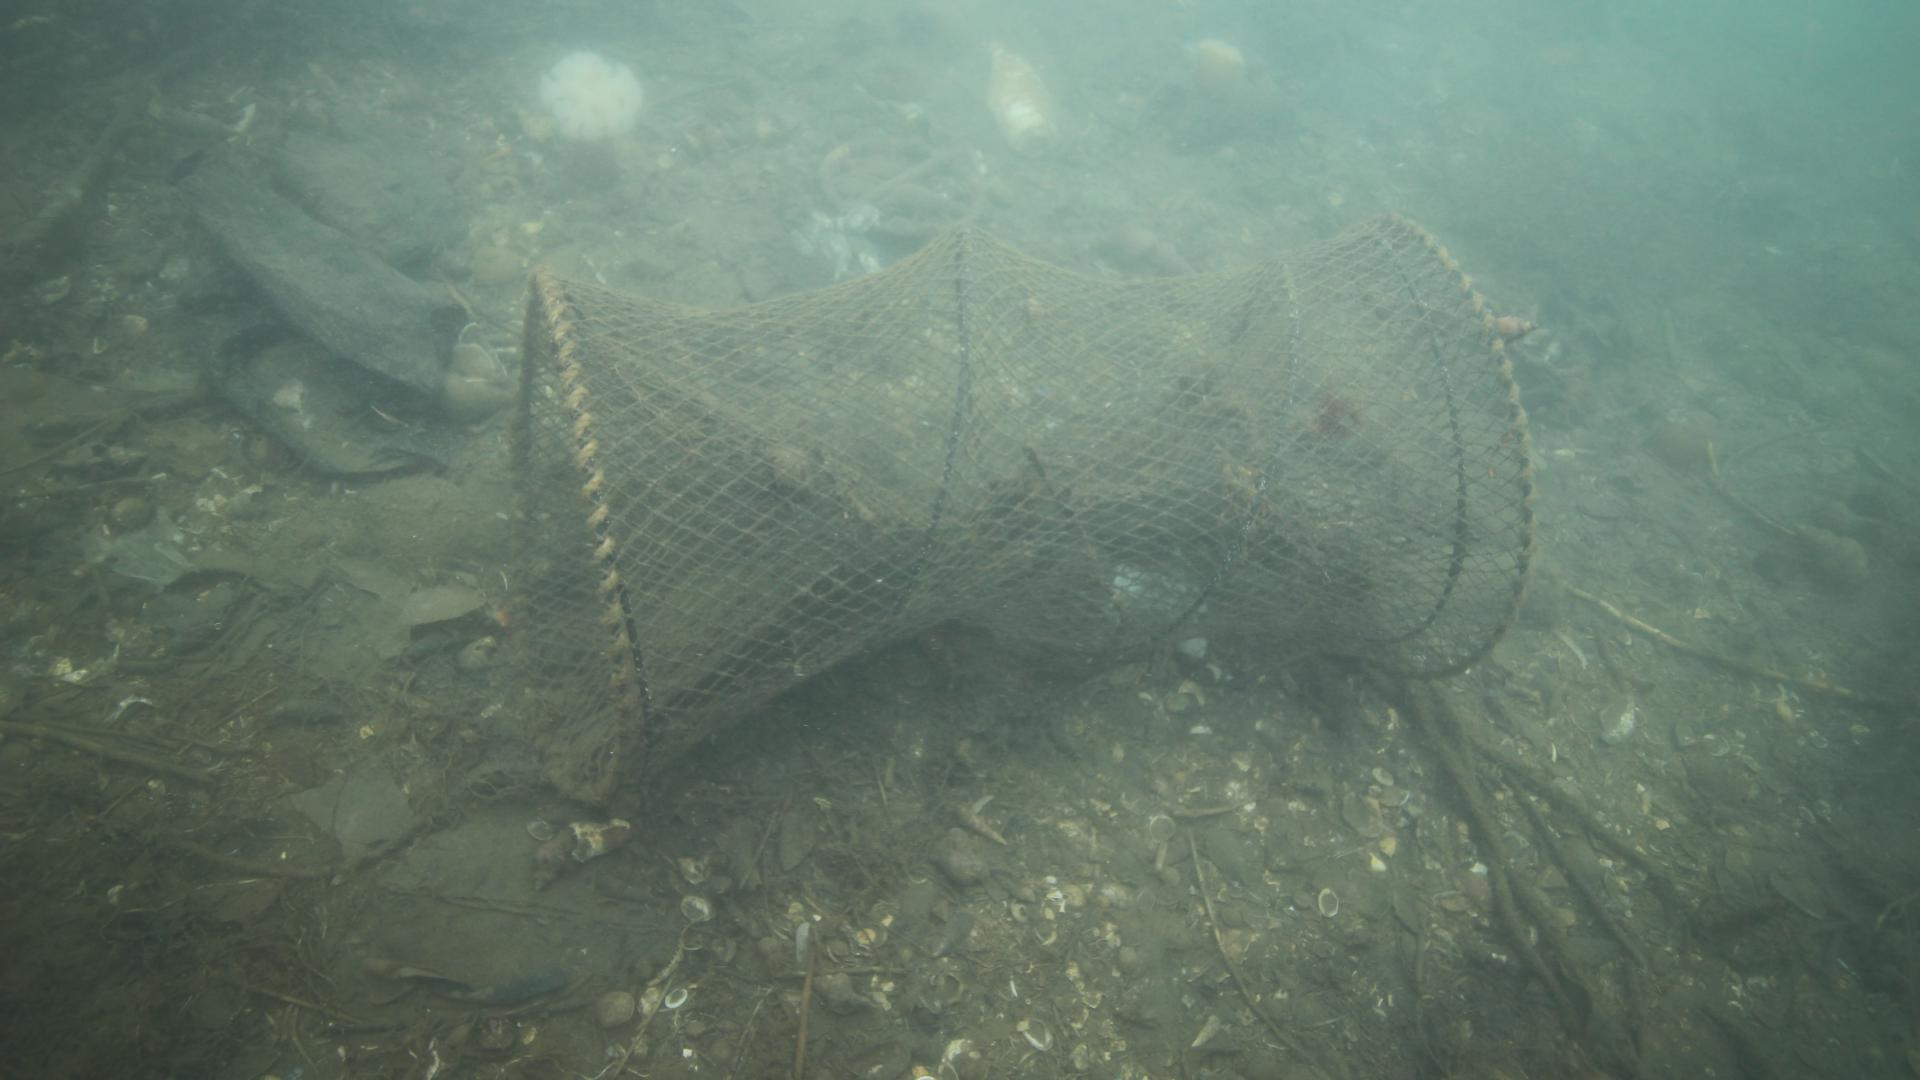spring fish trap: (509, 208, 1540, 807)
